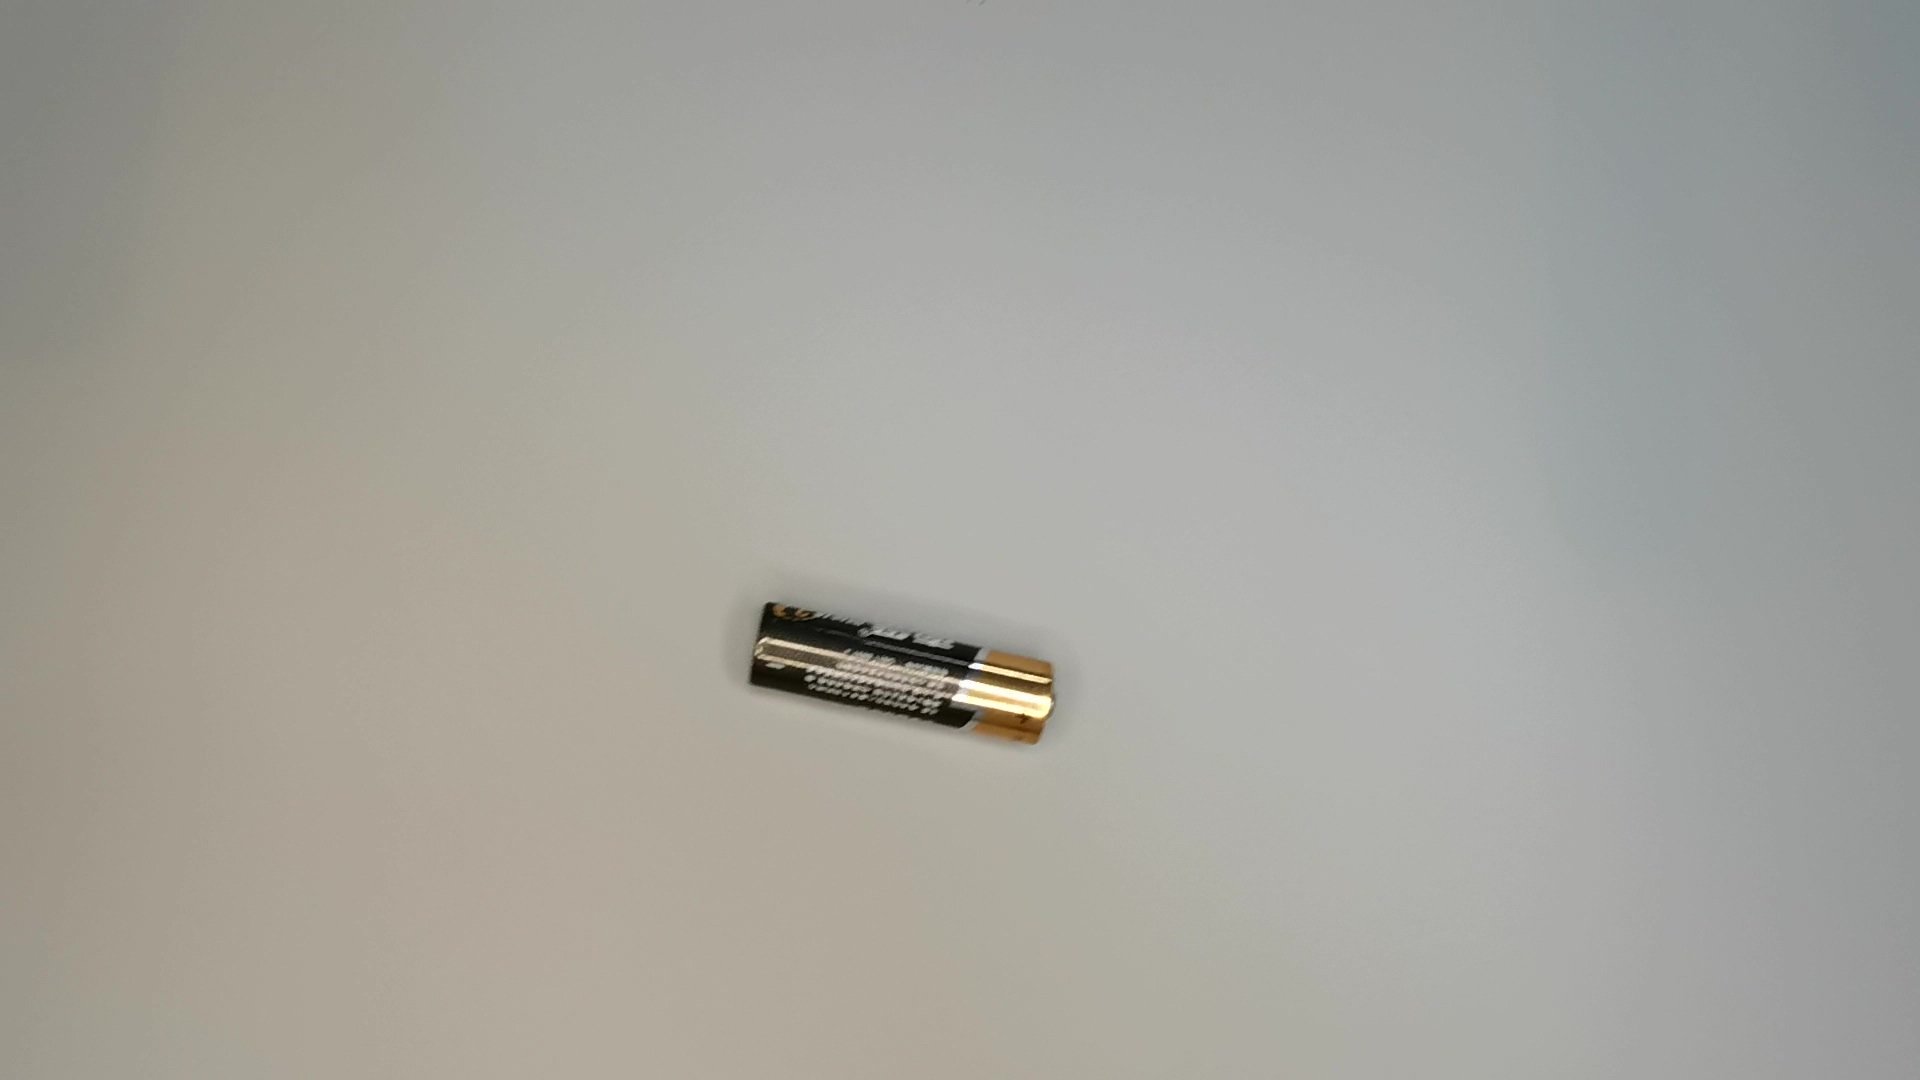battery: (744, 593, 1065, 764)
